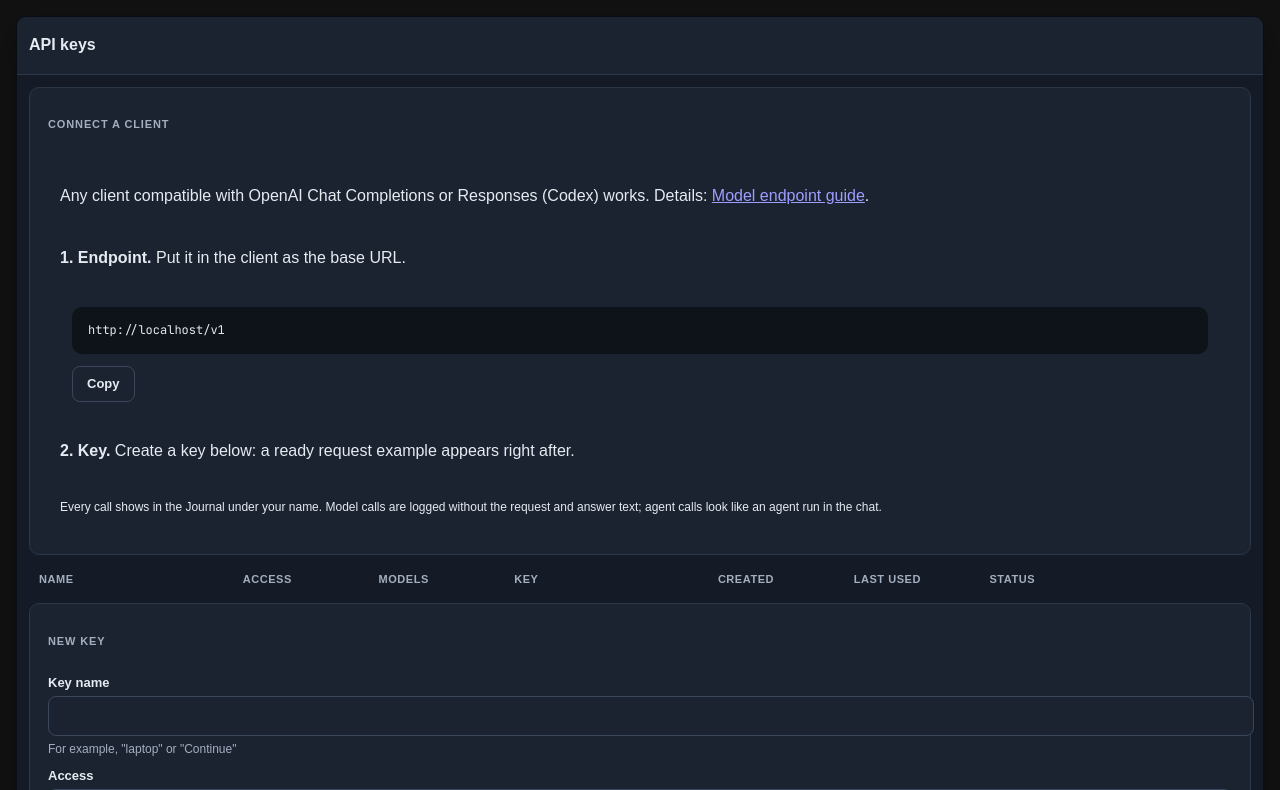
Test: Models of a key › a new key gets every model by default; ticking narrows it
Step 1. Type "laptop" into the field labelled "Key name" → (651, 716), box [48, 696, 1254, 736]
(page scrolled)
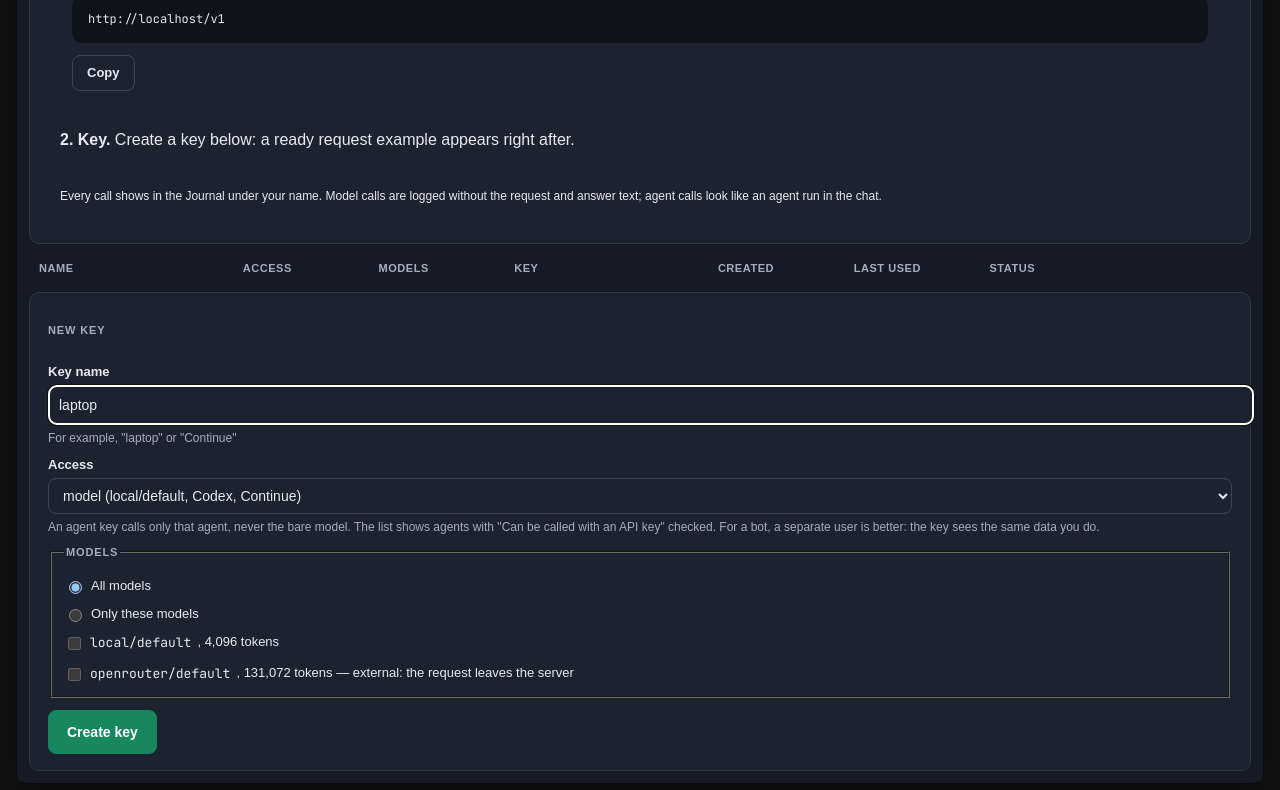
Expected: the radio button labelled "All models" is checked, [69, 581, 82, 594]
Step 2. Click the radio button labelled "Only these models" → (76, 616), box [69, 609, 82, 622]
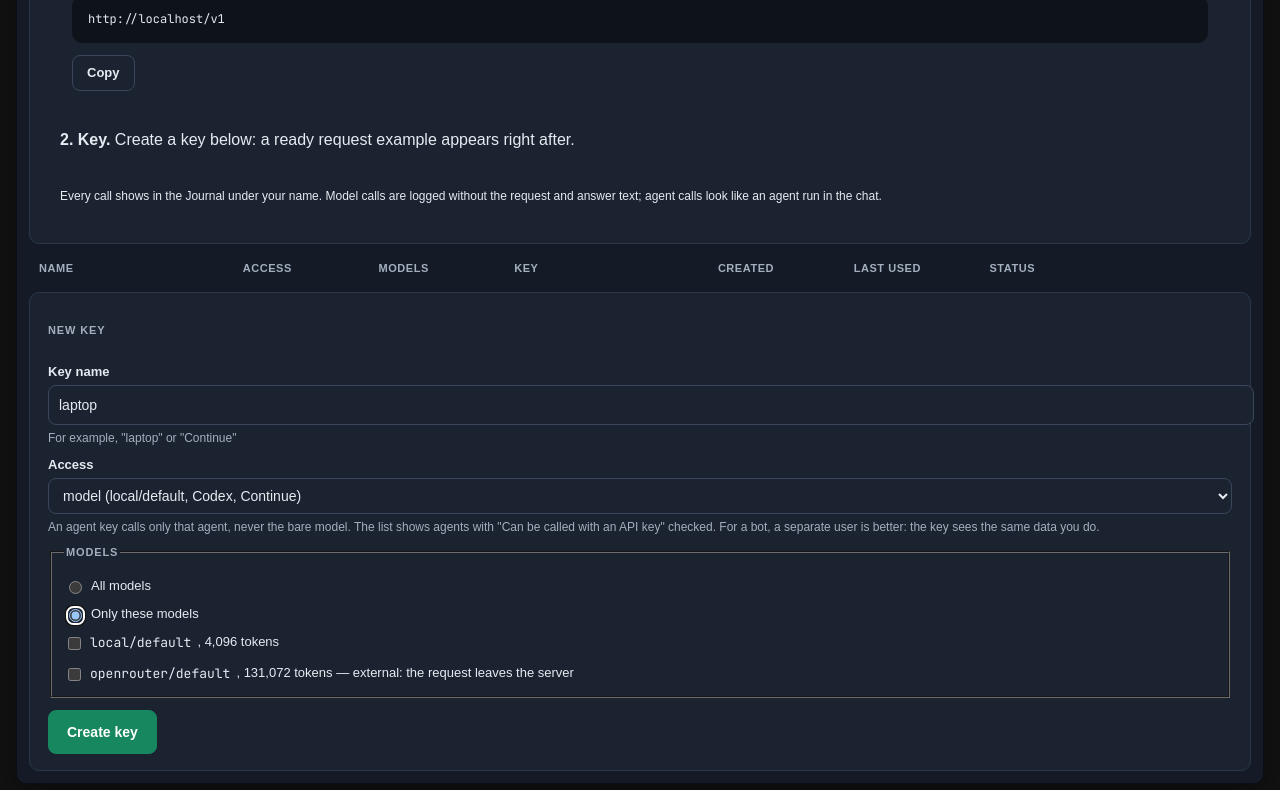
Step 3. Click the checkbox labelled "local/default , 4,096 tokens" → (74, 644), box [68, 637, 81, 650]
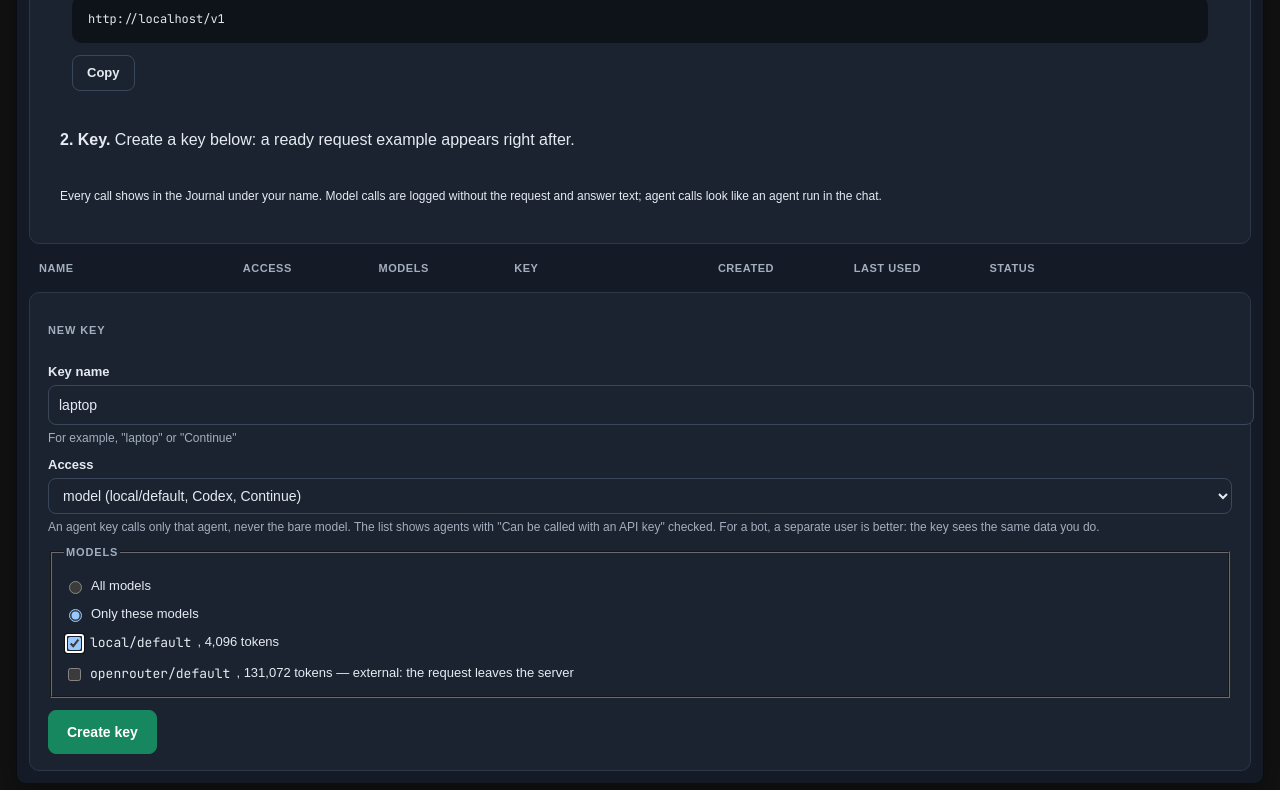
Expected: the 2nd checkbox is not checked, [68, 668, 81, 681]
Step 4. Click the button "Create key" → (102, 732), box [48, 710, 157, 754]
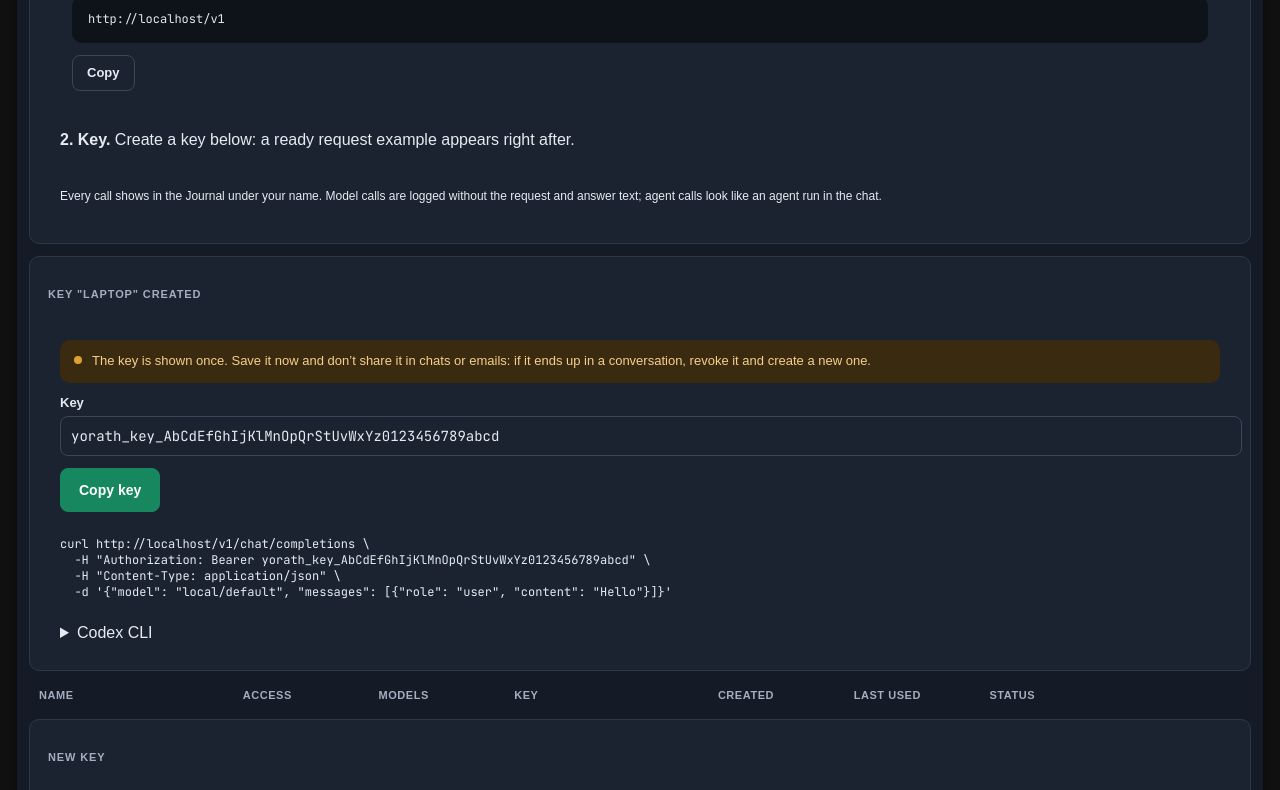
Expected: the field showing "yorath_key_AbCdEfGhIjKlMnOpQrStUvWxYz0123456789abcd" is shown, [60, 416, 1242, 456]
